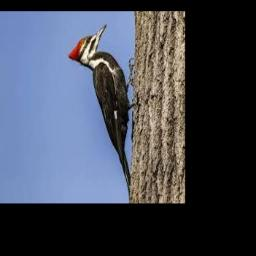Woodpecker: (68, 23, 135, 197)
